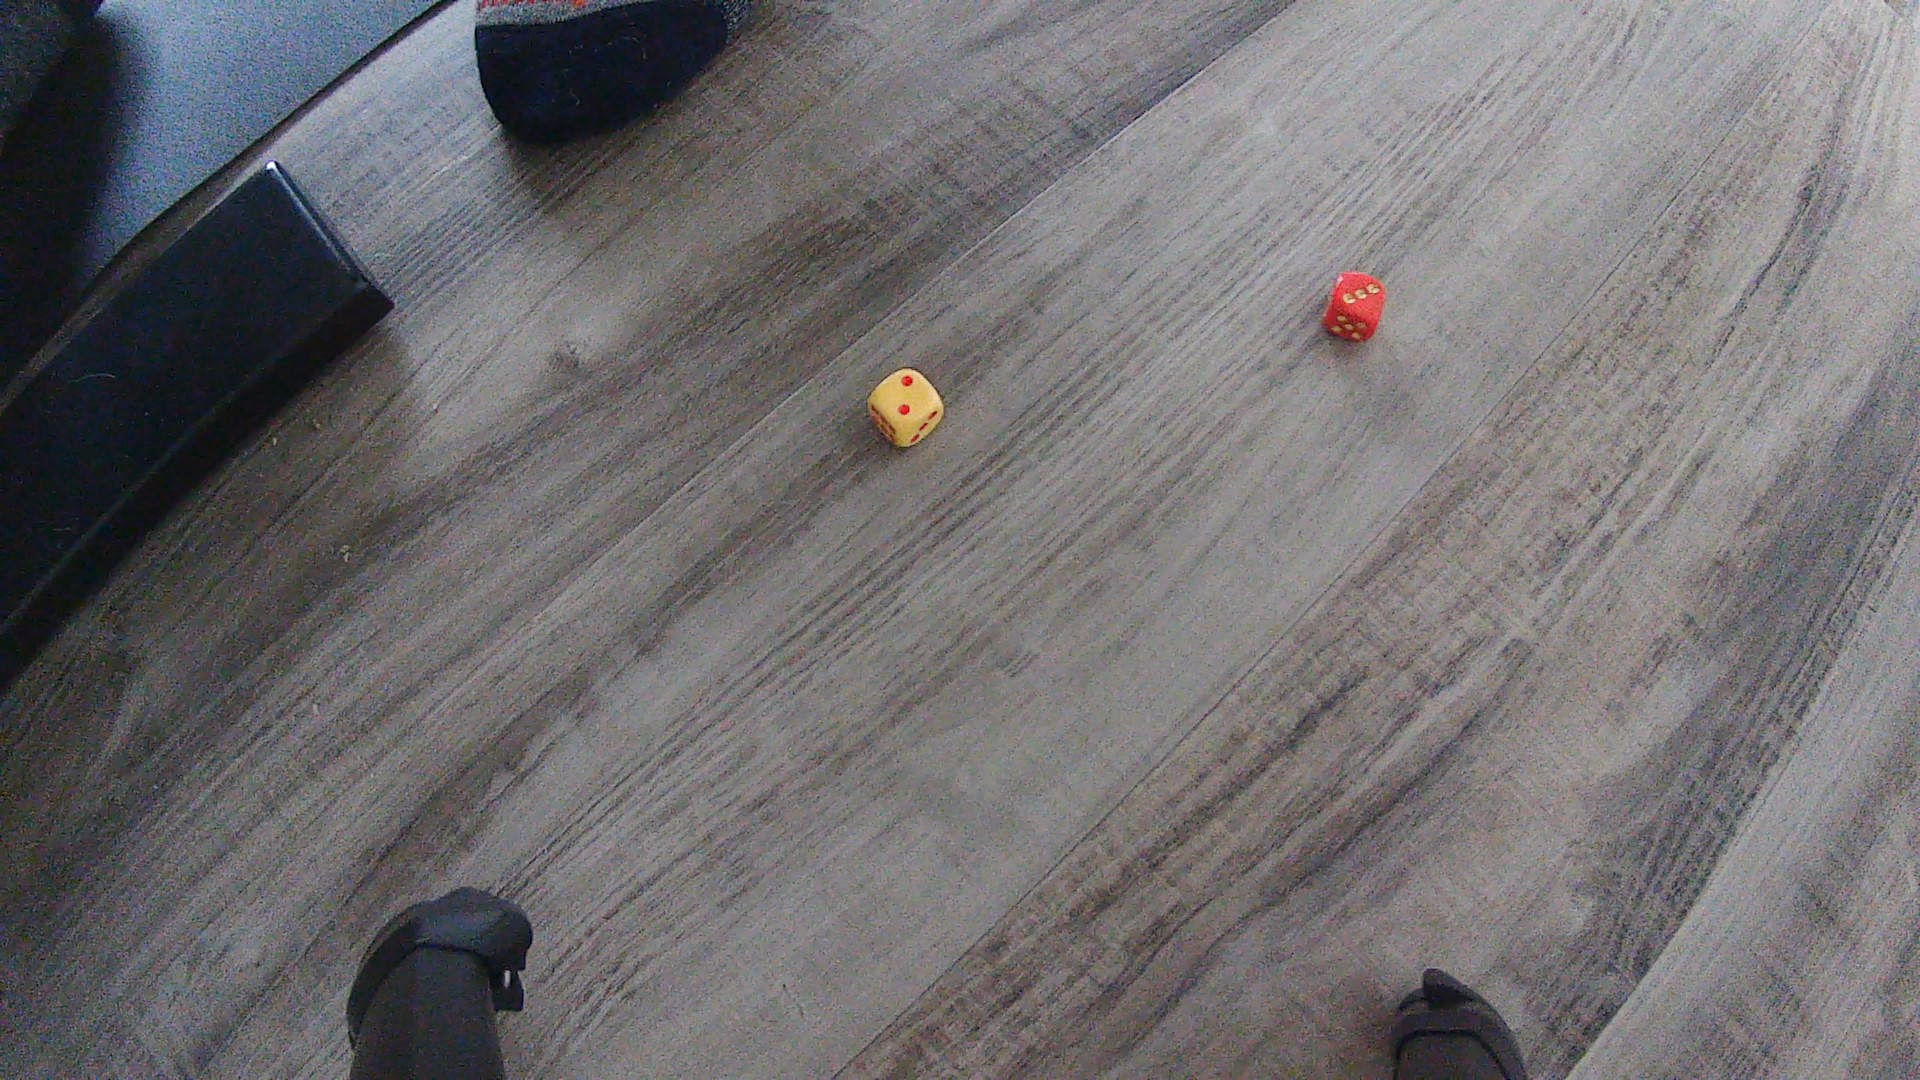die: (865, 367, 945, 448), (1323, 272, 1389, 344)
